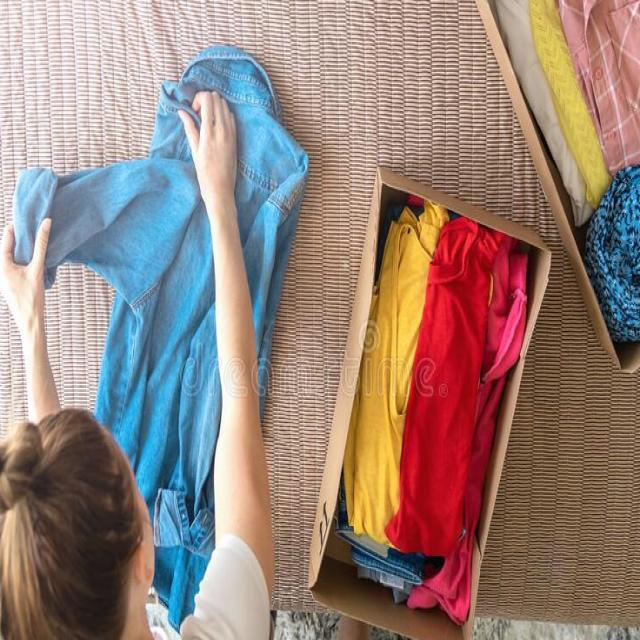clothes: (21, 144, 211, 418), (376, 216, 490, 547), (218, 44, 296, 314)
